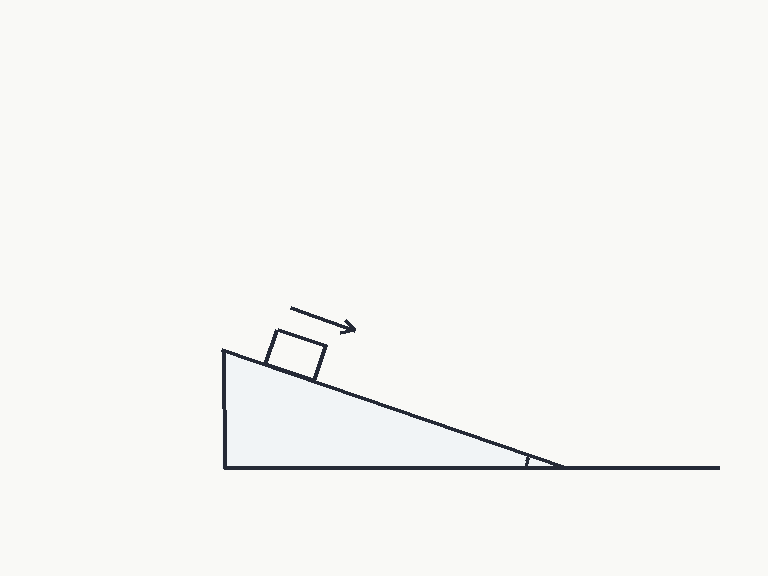block: (262, 327, 327, 383)
ramp: (221, 348, 568, 470)
